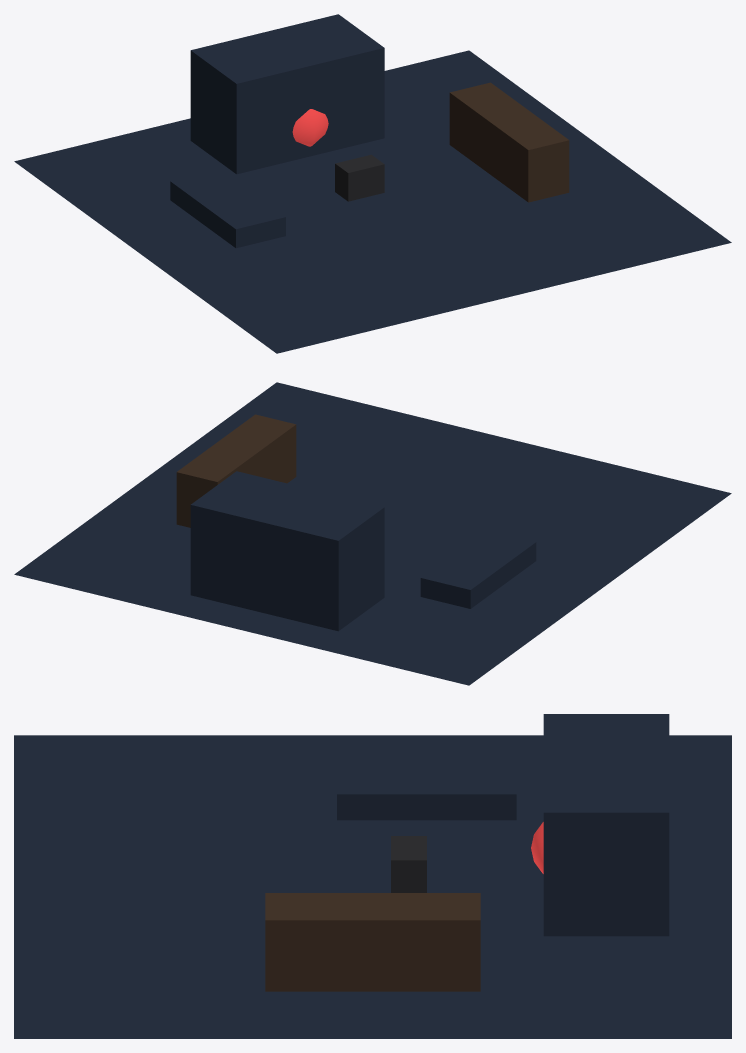
Rendered from lor_07.glb.
3 renders of one model, top to bottom at view 1: azimuth 30°, elevation 25°; view 2: azimuth 150°, elevation 25°; view 3: azimuth 270°, elevation 25°, orthographic. The views are drawn at different scales.
Visible parts, largest first — view 1: scenario_base_floor, LOR_07; view 2: scenario_base_floor, LOR_07; view 3: scenario_base_floor, LOR_07.
Part boxes in pixels (x1,y1,x2,y2): scenario_base_floor: (14, 50, 731, 353); LOR_07: (170, 14, 569, 248); scenario_base_floor: (14, 382, 731, 685); LOR_07: (176, 414, 536, 631); scenario_base_floor: (14, 735, 731, 1038); LOR_07: (265, 714, 669, 991).
Bounding box in the file's own units: 20 × 3.8 × 20.
